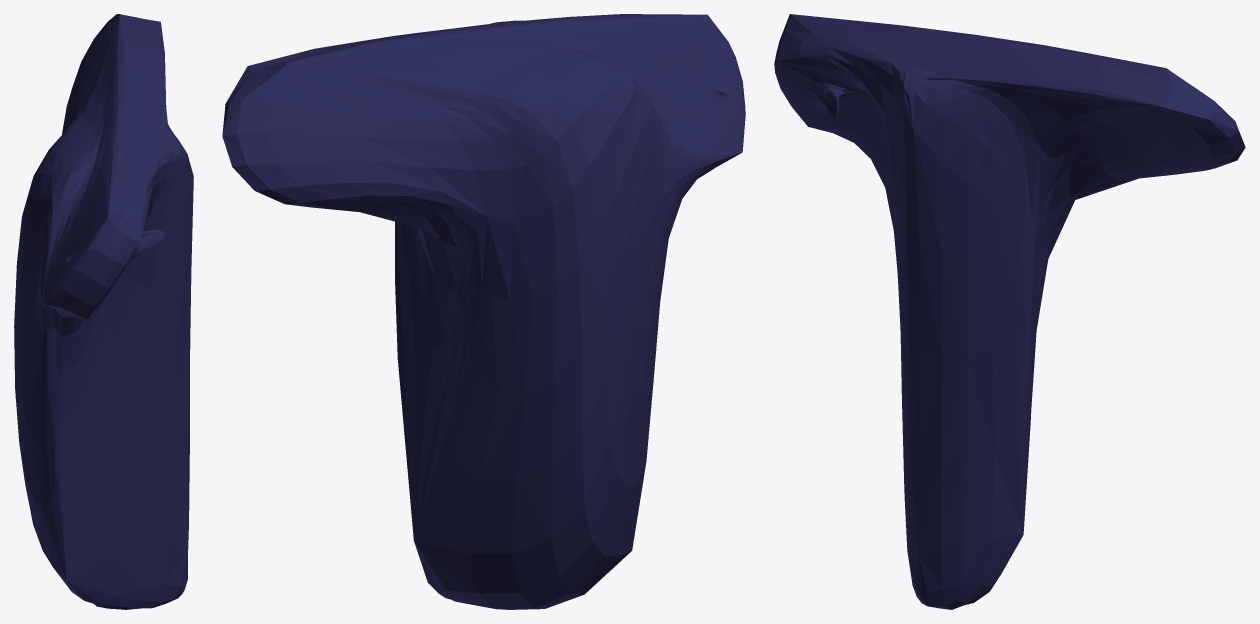
3 views of the same model, side by side, from view 1: azimuth 30°, elevation 25°; view 2: azimuth 150°, elevation 25°; view 3: azimuth 270°, elevation 25° (orthographic). The views are drawn at different scales.
Parts seen in each view (by area): view 1: 730_Cube.2929; view 2: 730_Cube.2929; view 3: 730_Cube.2929.
Boxes of the visible parts, x1=… form: 730_Cube.2929: x1=14, y1=14, x2=193, y2=609; 730_Cube.2929: x1=222, y1=14, x2=745, y2=609; 730_Cube.2929: x1=774, y1=14, x2=1245, y2=609.
Size of the model in its own units: 7.2 by 13.08 by 9.87.
